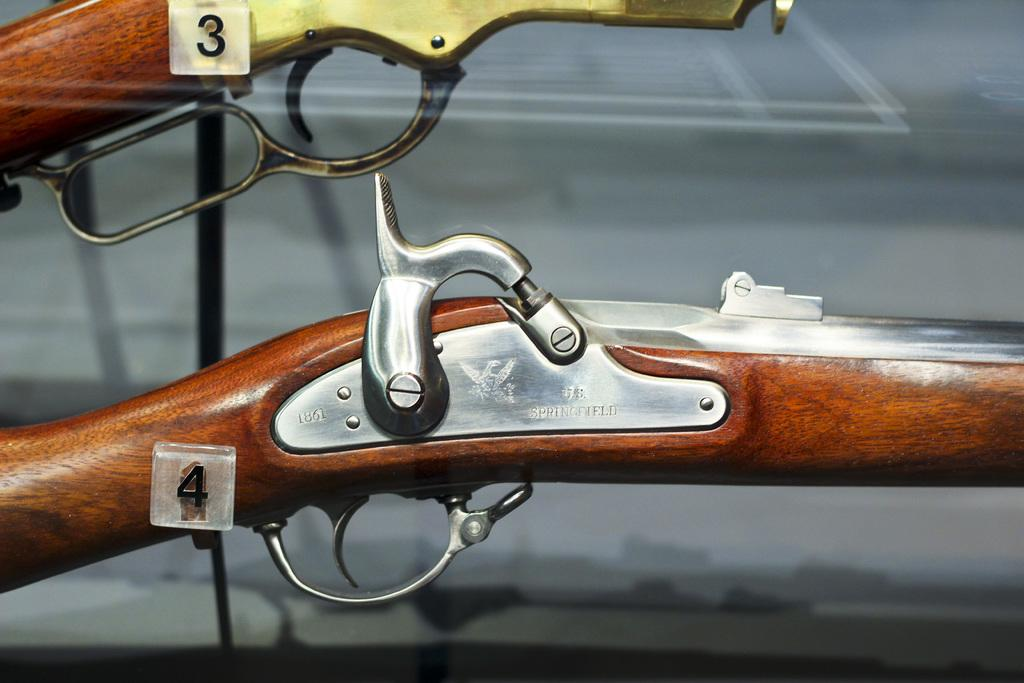weapon: (0, 173, 1023, 609), (0, 0, 791, 248)
